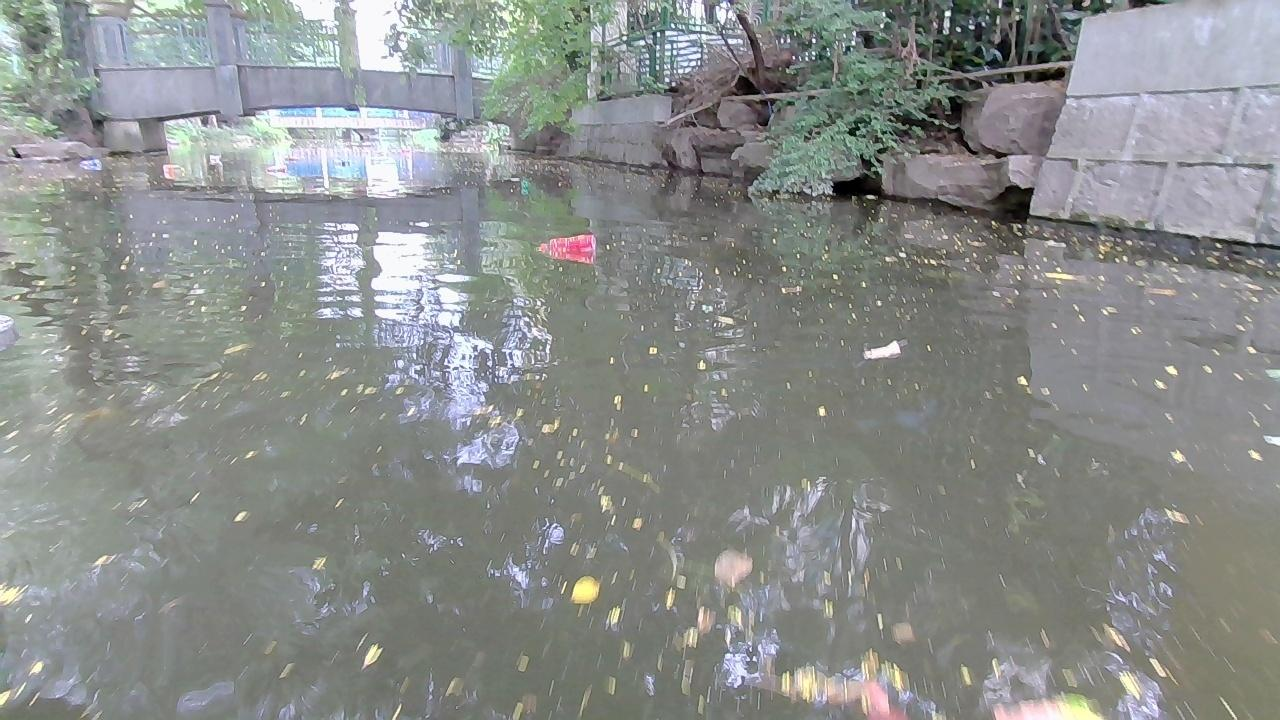bottle: (530, 233, 597, 256), (160, 162, 186, 176), (74, 157, 106, 167), (263, 164, 287, 176), (203, 153, 225, 165), (519, 174, 529, 188), (335, 159, 352, 166), (281, 154, 292, 160)
